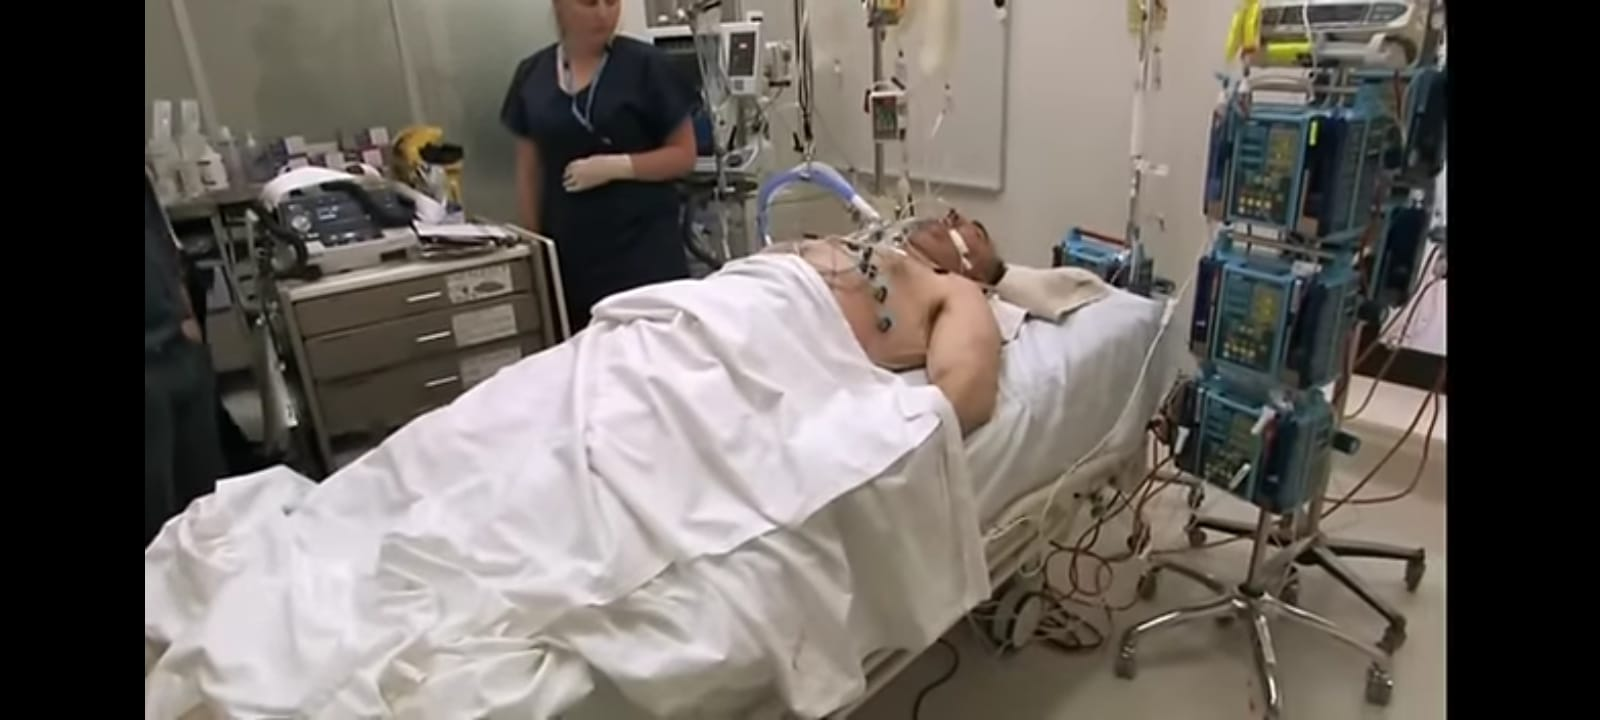doctor: (498, 0, 702, 311)
patient: (602, 203, 1020, 493)
